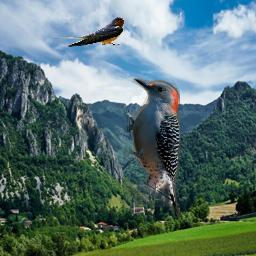Swallow: (54, 16, 126, 47)
Woodpecker: (123, 75, 180, 218)
